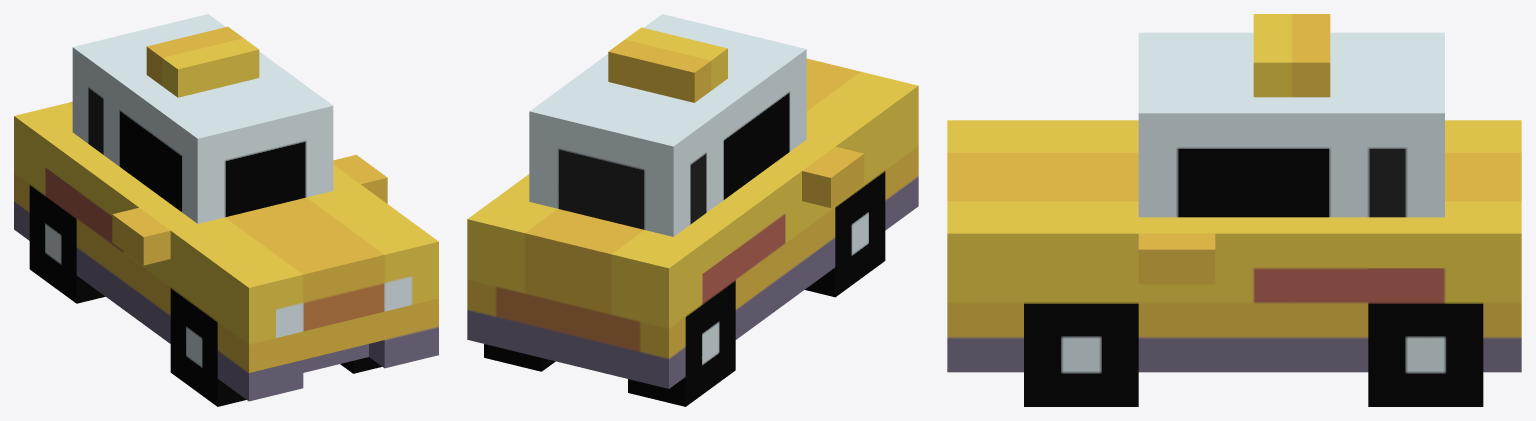
Rendered from Taxi.fbx.
The picture shows the model from 3 angles, left to right: view 1: azimuth 30°, elevation 25°; view 2: azimuth 150°, elevation 25°; view 3: azimuth 270°, elevation 25°; orthographic projection. The views are drawn at different scales.
Visible parts, largest first — view 1: Taxi; view 2: Taxi; view 3: Taxi.
Boxes of the visible parts, x1=… form: Taxi: x1=14, y1=14, x2=438, y2=406; Taxi: x1=467, y1=14, x2=918, y2=406; Taxi: x1=947, y1=14, x2=1521, y2=406.
Size of the model in its own units: 108 by 108 by 180.
